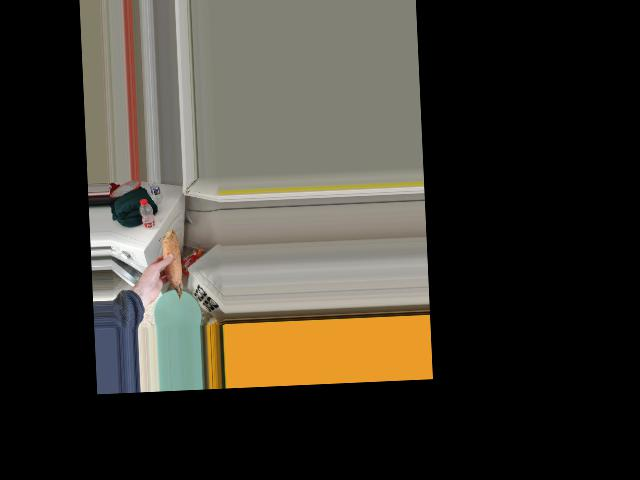sweet_potato: (159, 236, 182, 294)
